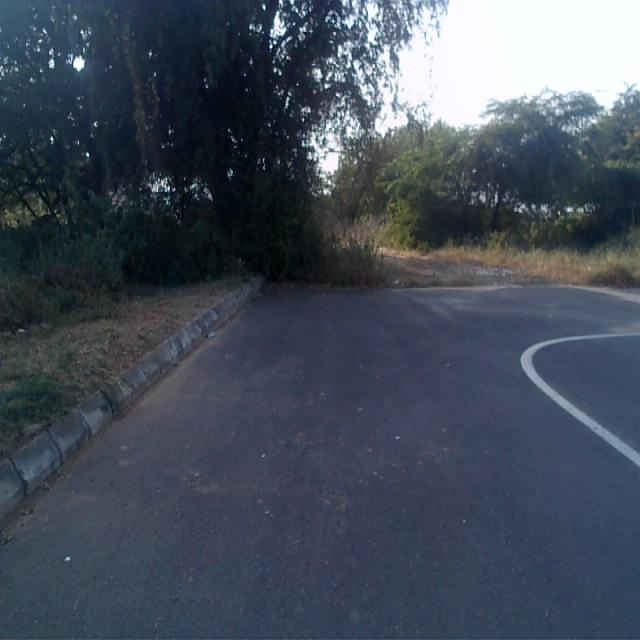lane: (0, 293, 640, 640)
